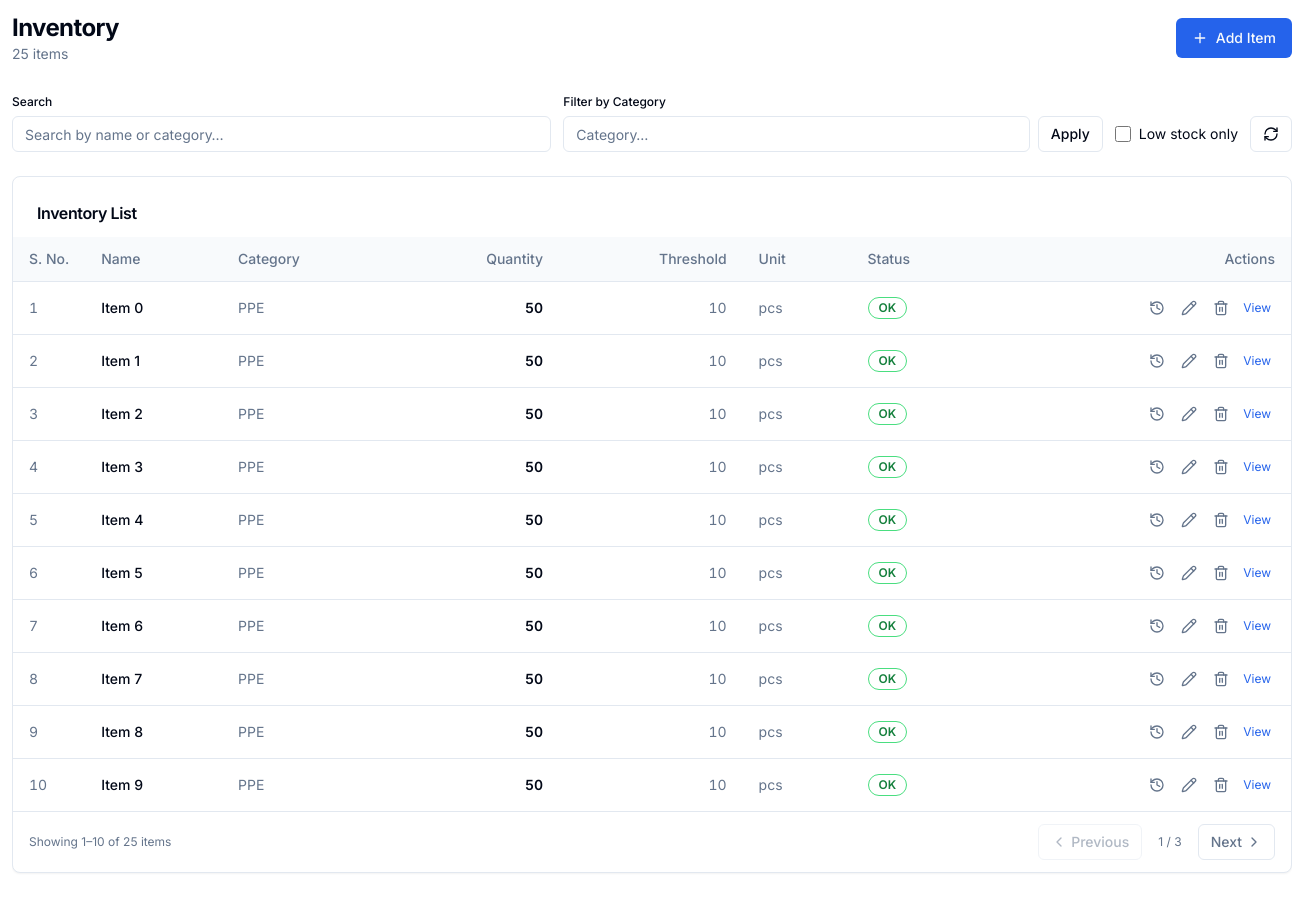
Test: InventoryPage — server-side pagination › empty search result shows a search-specific empty state and no count
In the field labelled "Search": coordinates (282, 134) [12, 116, 551, 152], type "zzz"
Wait 300 ms
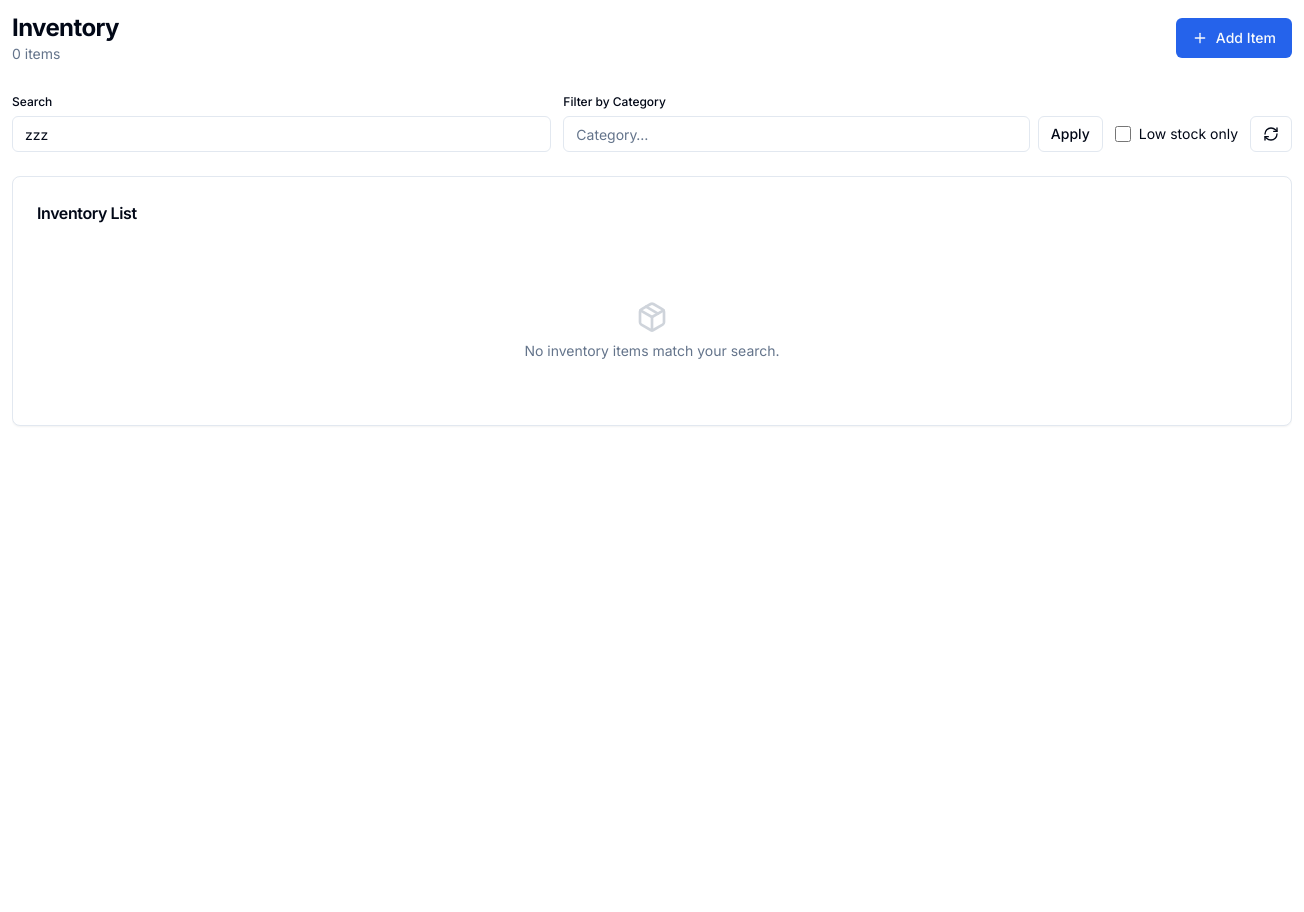
expect the text "No inventory items match your search." is shown: met, box [524, 301, 780, 359]
expect the text "Showing" is gone: met
